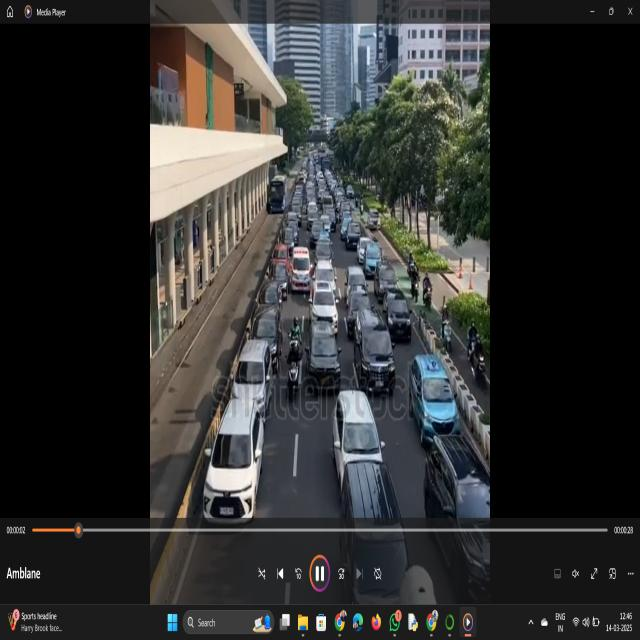Ambulance: (286, 243, 312, 295)
